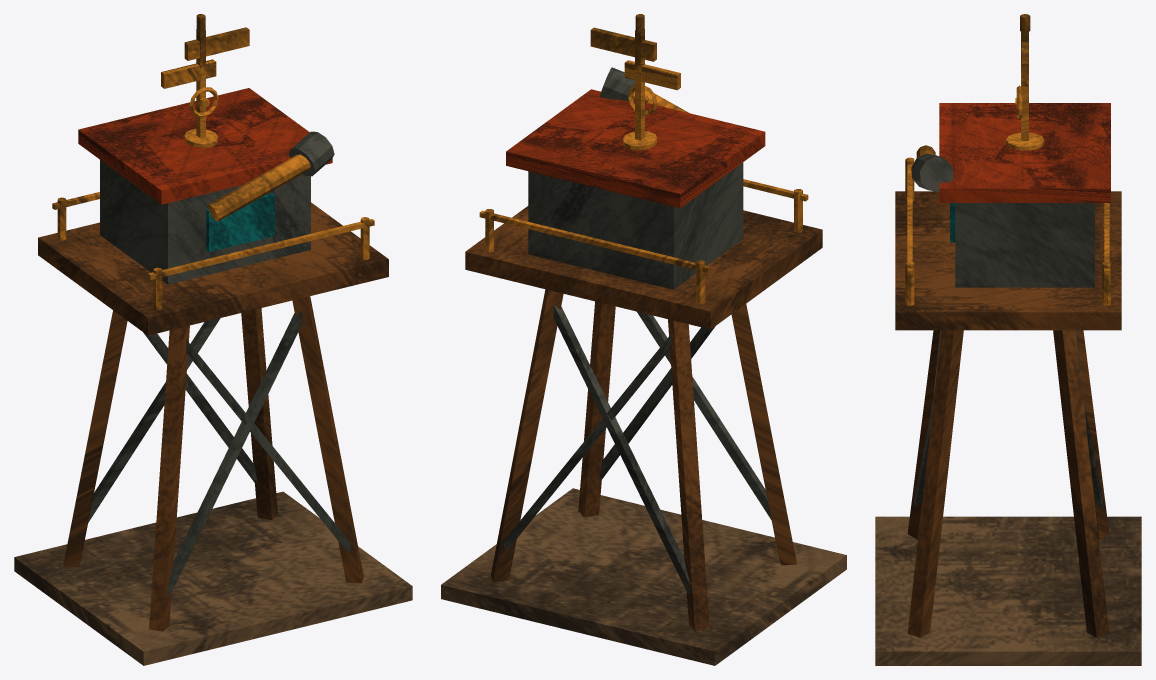
Rendered from north-railhead-storm-tower.glb.
3 renders of one model, left to right at view 1: azimuth 30°, elevation 25°; view 2: azimuth 150°, elevation 25°; view 3: azimuth 270°, elevation 25°, orthographic. The views are drawn at different scales.
Visible parts, largest first — view 1: north-railhead-storm-tower; view 2: north-railhead-storm-tower; view 3: north-railhead-storm-tower.
Part boxes in pixels (<box>): north-railhead-storm-tower: <box>14,14,412,665</box>; north-railhead-storm-tower: <box>441,14,846,665</box>; north-railhead-storm-tower: <box>875,14,1141,665</box>.
Size of the model in its own units: 4.8 by 9.63 by 4.
1 material, 1 textured.
